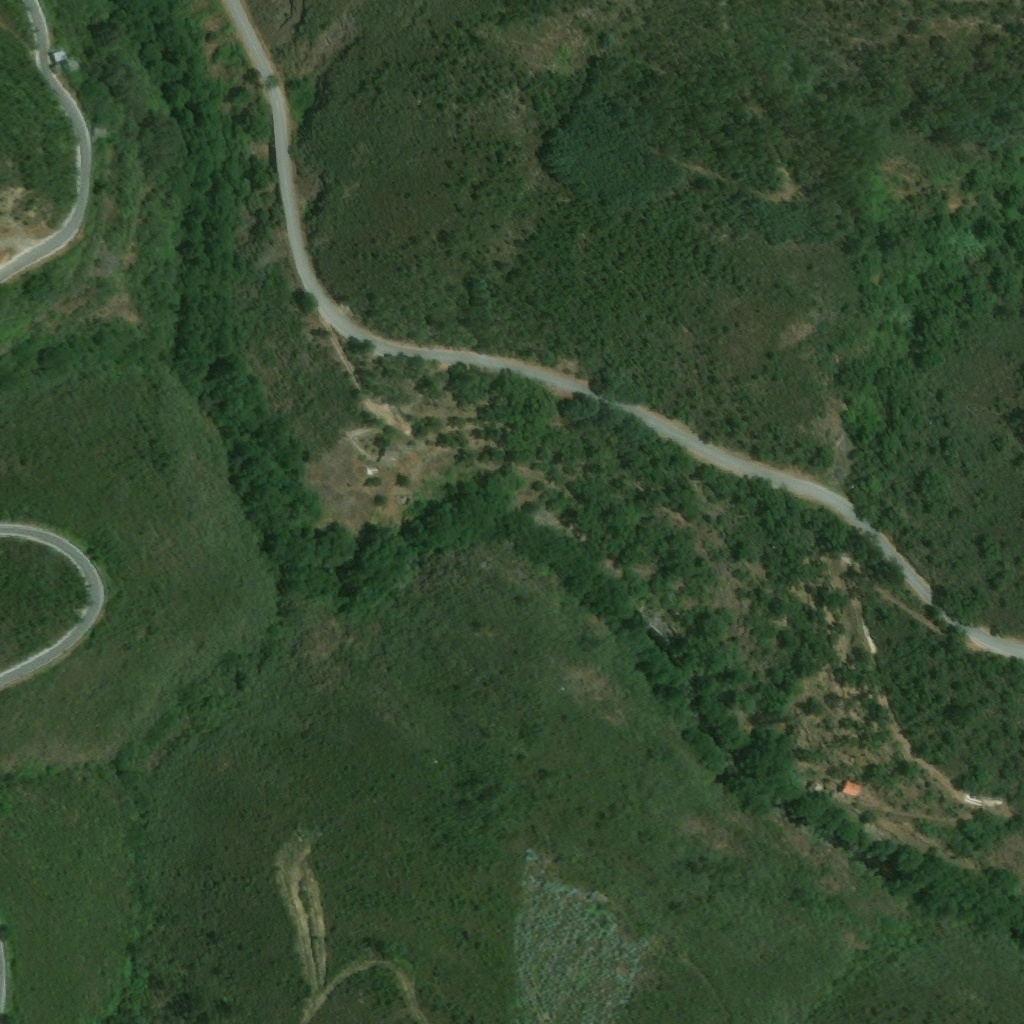0 no-damage: (48, 50, 70, 76)
